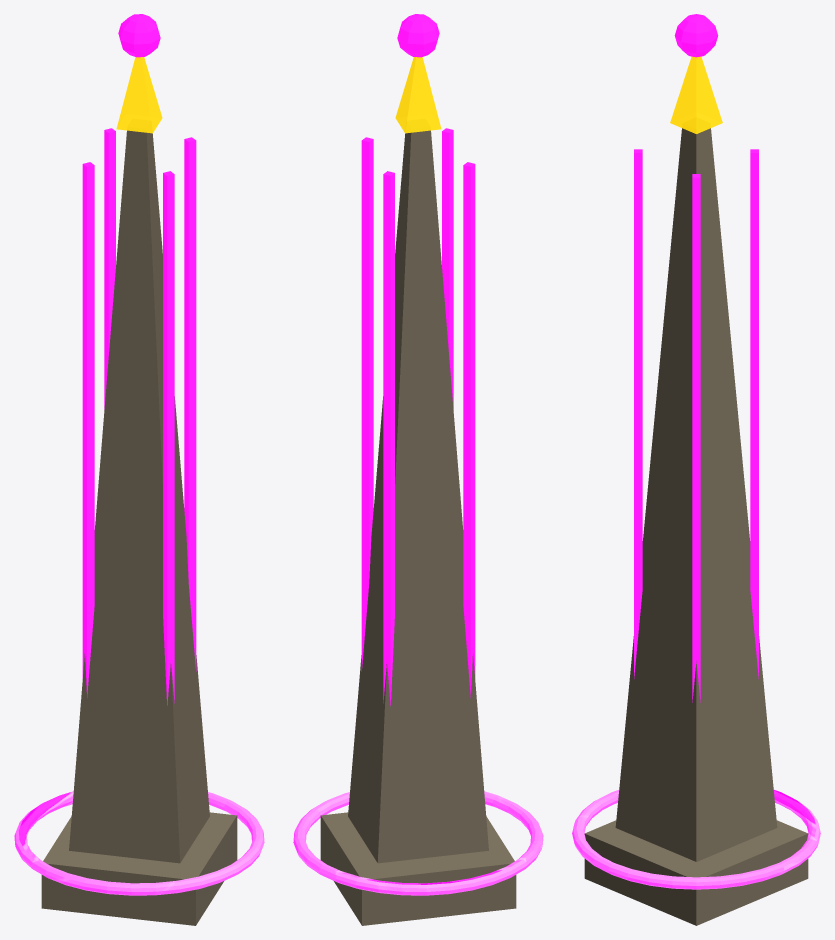
The model's file is solar_beam_monolith.glb.
3 renders of one model, left to right at view 1: azimuth 30°, elevation 25°; view 2: azimuth 150°, elevation 25°; view 3: azimuth 270°, elevation 25°, orthographic.
Visible parts, largest first — view 1: SolarBeamMonolith; view 2: SolarBeamMonolith; view 3: SolarBeamMonolith.
Boxes of the visible parts, box(x1,y1,x2,y2) form: SolarBeamMonolith: box(14, 14, 264, 925); SolarBeamMonolith: box(293, 14, 543, 925); SolarBeamMonolith: box(572, 14, 820, 925).
Size of the model in its own units: 1.6 by 6.12 by 1.6.
3 materials, 3 textured.
